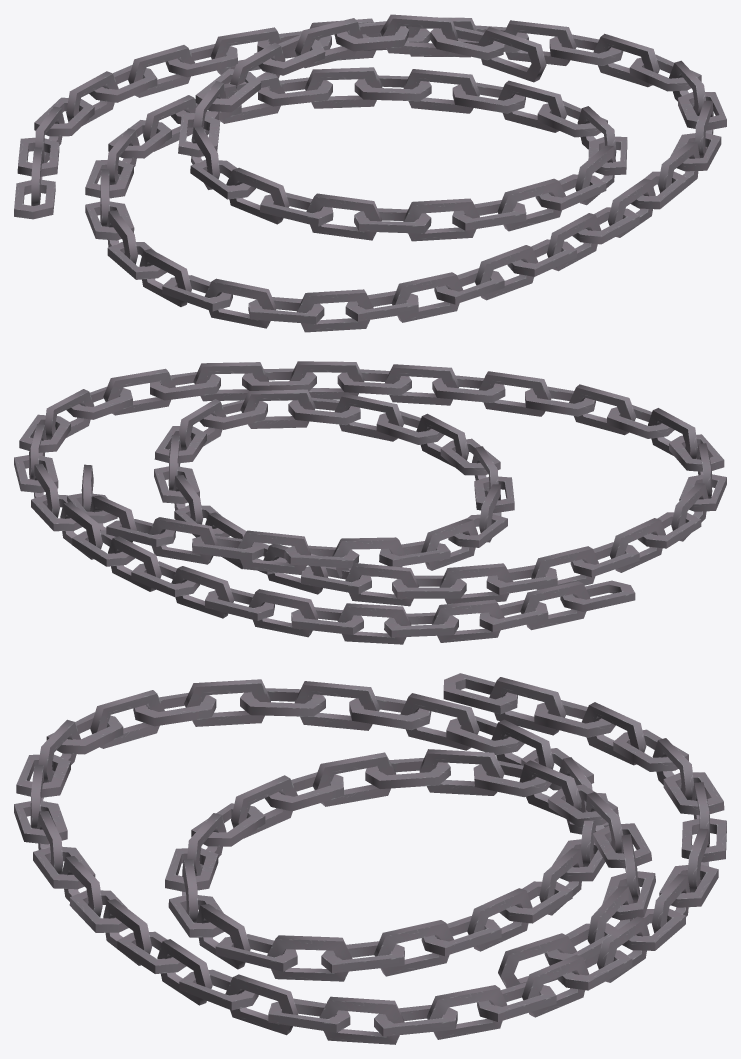
The model's file is Chain_Coil.gltf.
The picture shows the model from 3 angles, top to bottom: view 1: azimuth 30°, elevation 25°; view 2: azimuth 150°, elevation 25°; view 3: azimuth 270°, elevation 25°; orthographic projection. The views are drawn at different scales.
Parts seen in each view (by area): view 1: Chain_Coil; view 2: Chain_Coil; view 3: Chain_Coil.
Part boxes in pixels (left/top/right/bottom): Chain_Coil: left=14, top=14, right=726, bottom=332; Chain_Coil: left=14, top=361, right=726, bottom=644; Chain_Coil: left=14, top=673, right=726, bottom=1044.
Size of the model in its own units: 1.07 by 0.0872 by 0.9077.
Materials: 1 (1 with a texture image).
